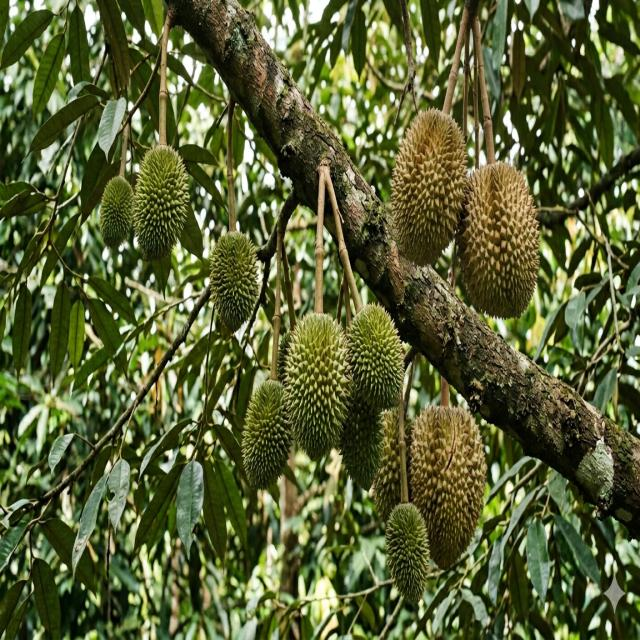immature: (282, 309, 348, 458), (132, 140, 190, 256), (344, 302, 404, 411), (240, 378, 293, 491), (210, 228, 260, 331), (339, 383, 387, 488), (382, 501, 430, 602), (371, 408, 411, 524), (98, 174, 135, 248), (276, 323, 296, 378), (405, 413, 420, 464)
mature: (455, 164, 540, 322), (408, 404, 486, 568), (391, 106, 468, 264)
